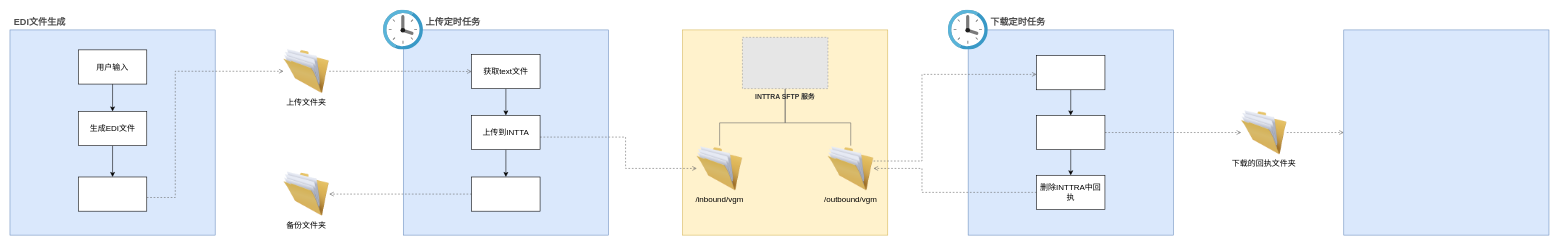
Some shapes in this 1559 by 245 pixel diagram are drawn without their labels. Grey dashed boxes stand in for pictures. The centre of each missing label's shape, as x and y in pixels:
"保存到本地" goes at point 1070,132.
"回执处理逻辑 未定" goes at point 1446,132.
"将文件移走备份" goes at point 505,193.
"放入上传文件夹" goes at point 112,193.
"获取回执文件" goes at point 1070,72.
